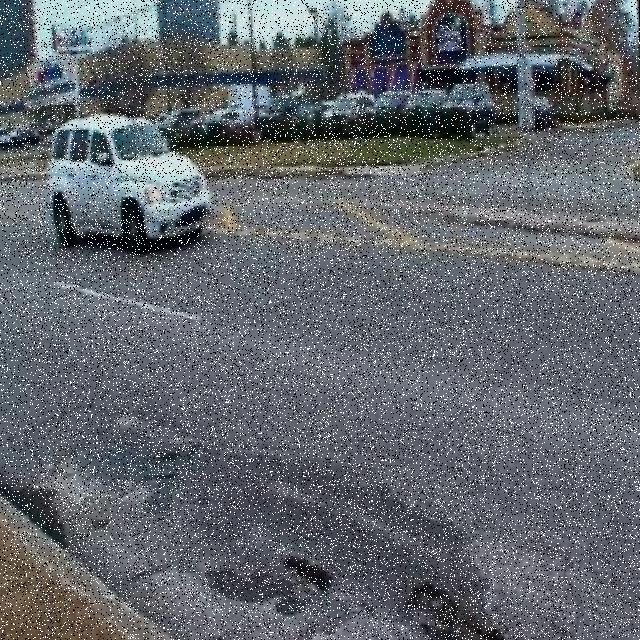pothole: (408, 584, 505, 640), (283, 557, 334, 596)
